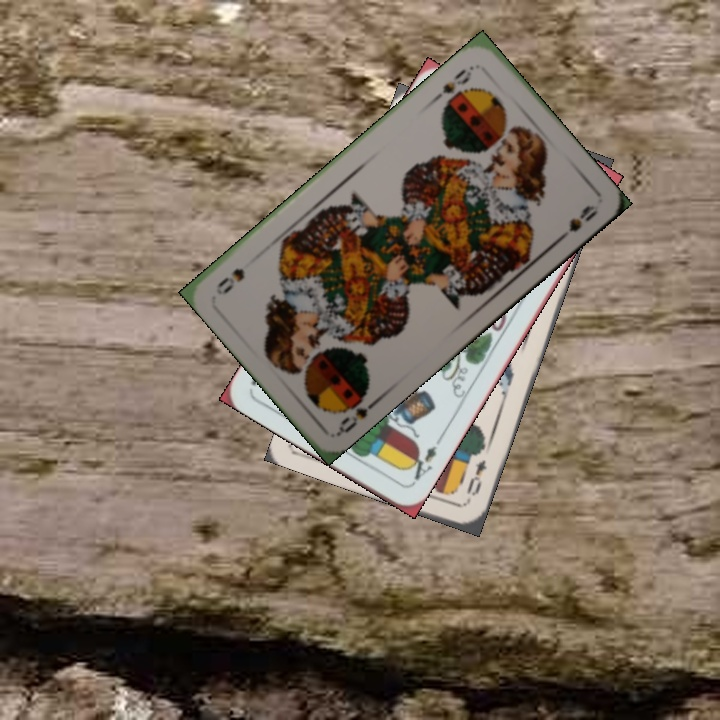EA: (403, 441, 439, 487)
EO: (462, 455, 490, 498)
SO: (333, 384, 383, 437), (429, 61, 477, 106)
